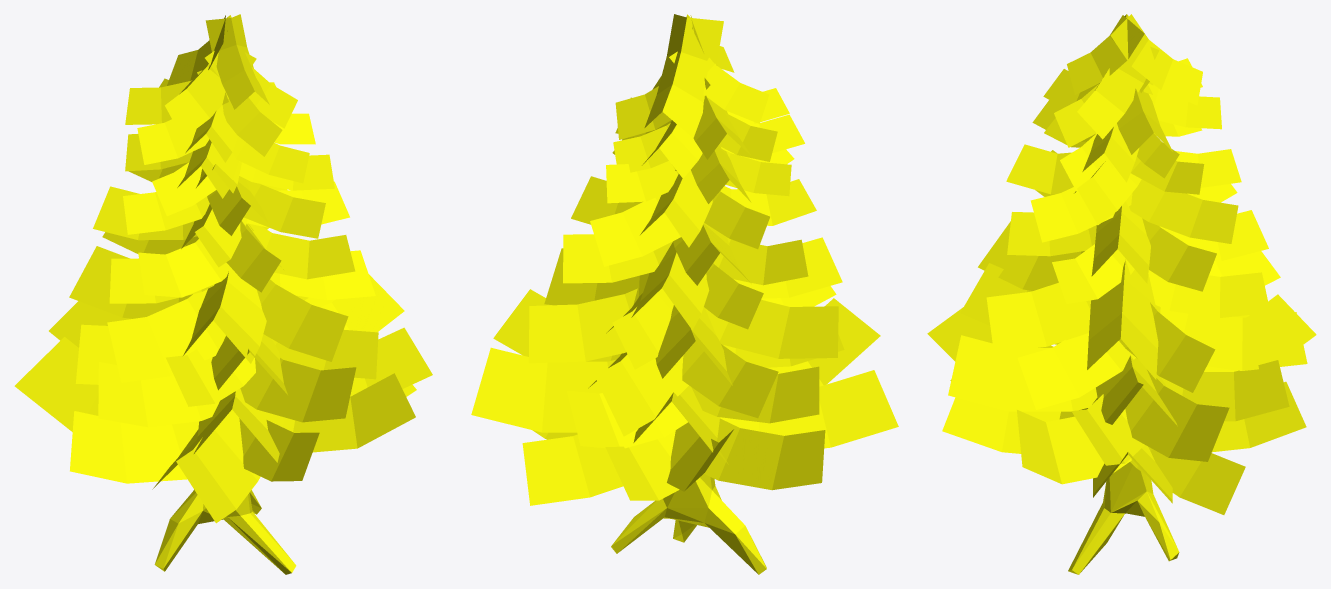
File: tree_spruce.glb
The picture shows the model from 3 angles, left to right: view 1: azimuth 30°, elevation 25°; view 2: azimuth 150°, elevation 25°; view 3: azimuth 270°, elevation 25°; orthographic projection.
Parts seen in each view (by area): view 1: Spruce_LOD0, SM_Big_Spruce_LOD0; view 2: Spruce_LOD0, SM_Big_Spruce_LOD0; view 3: Spruce_LOD0, SM_Big_Spruce_LOD0.
Boxes of the visible parts, x1=… form: Spruce_LOD0: x1=14, y1=14, x2=432, y2=523; SM_Big_Spruce_LOD0: x1=154, y1=15, x2=296, y2=574; Spruce_LOD0: x1=471, y1=14, x2=898, y2=505; SM_Big_Spruce_LOD0: x1=611, y1=14, x2=766, y2=574; Spruce_LOD0: x1=927, y1=14, x2=1316, y2=514; SM_Big_Spruce_LOD0: x1=1068, y1=14, x2=1179, y2=574.
Bounding box in the file's own units: 3.6 × 5.39 × 3.49.
